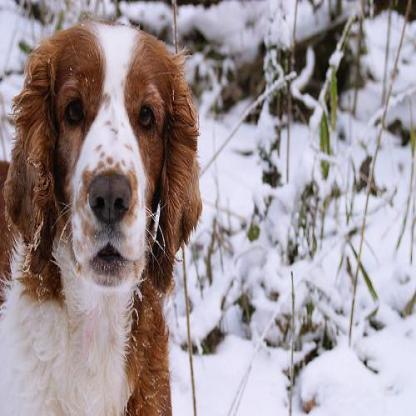Welsh_springer_spaniel: (0, 15, 203, 413)
